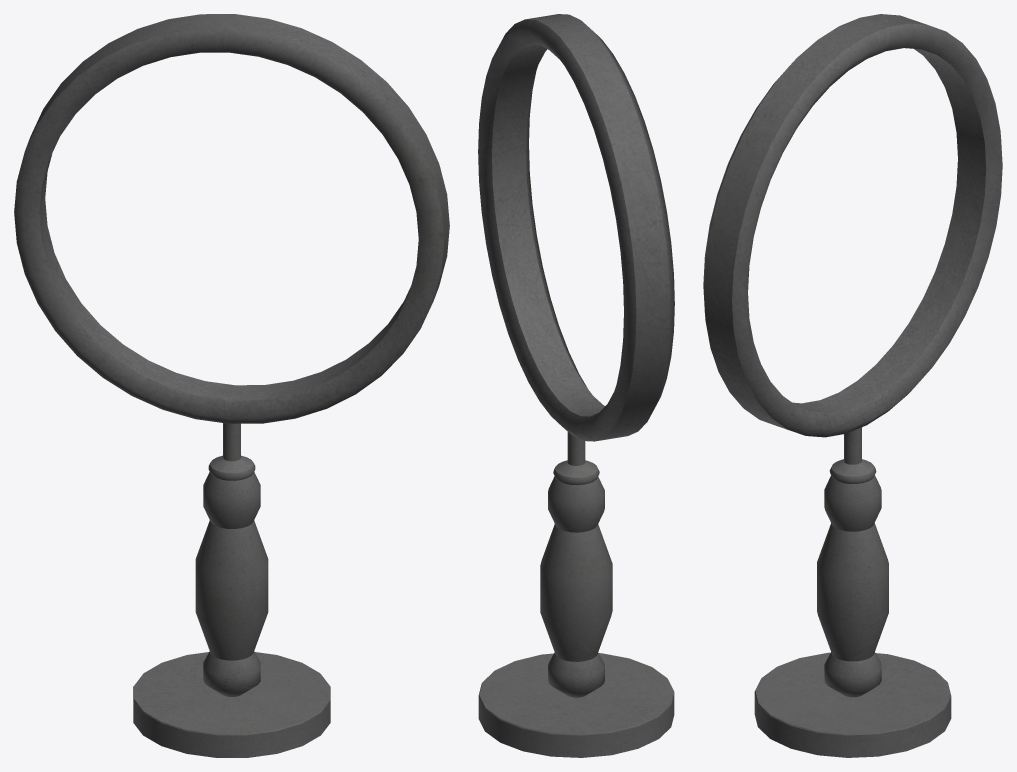
The model's file is Lance_transparent.gltf.
3 views of the same model, side by side, from view 1: azimuth 30°, elevation 25°; view 2: azimuth 150°, elevation 25°; view 3: azimuth 270°, elevation 25° (orthographic).
Visible parts, largest first — view 1: Magnifire_Glass; view 2: Magnifire_Glass; view 3: Magnifire_Glass.
Boxes of the visible parts, box(x1,y1,x2,y2) form: Magnifire_Glass: box(14, 14, 449, 757); Magnifire_Glass: box(478, 14, 674, 757); Magnifire_Glass: box(703, 14, 1002, 757).
Size of what is drawn, in the model's own units: 0.7264 by 1.54 by 0.6098.
Materials: 1 (1 with a texture image).
